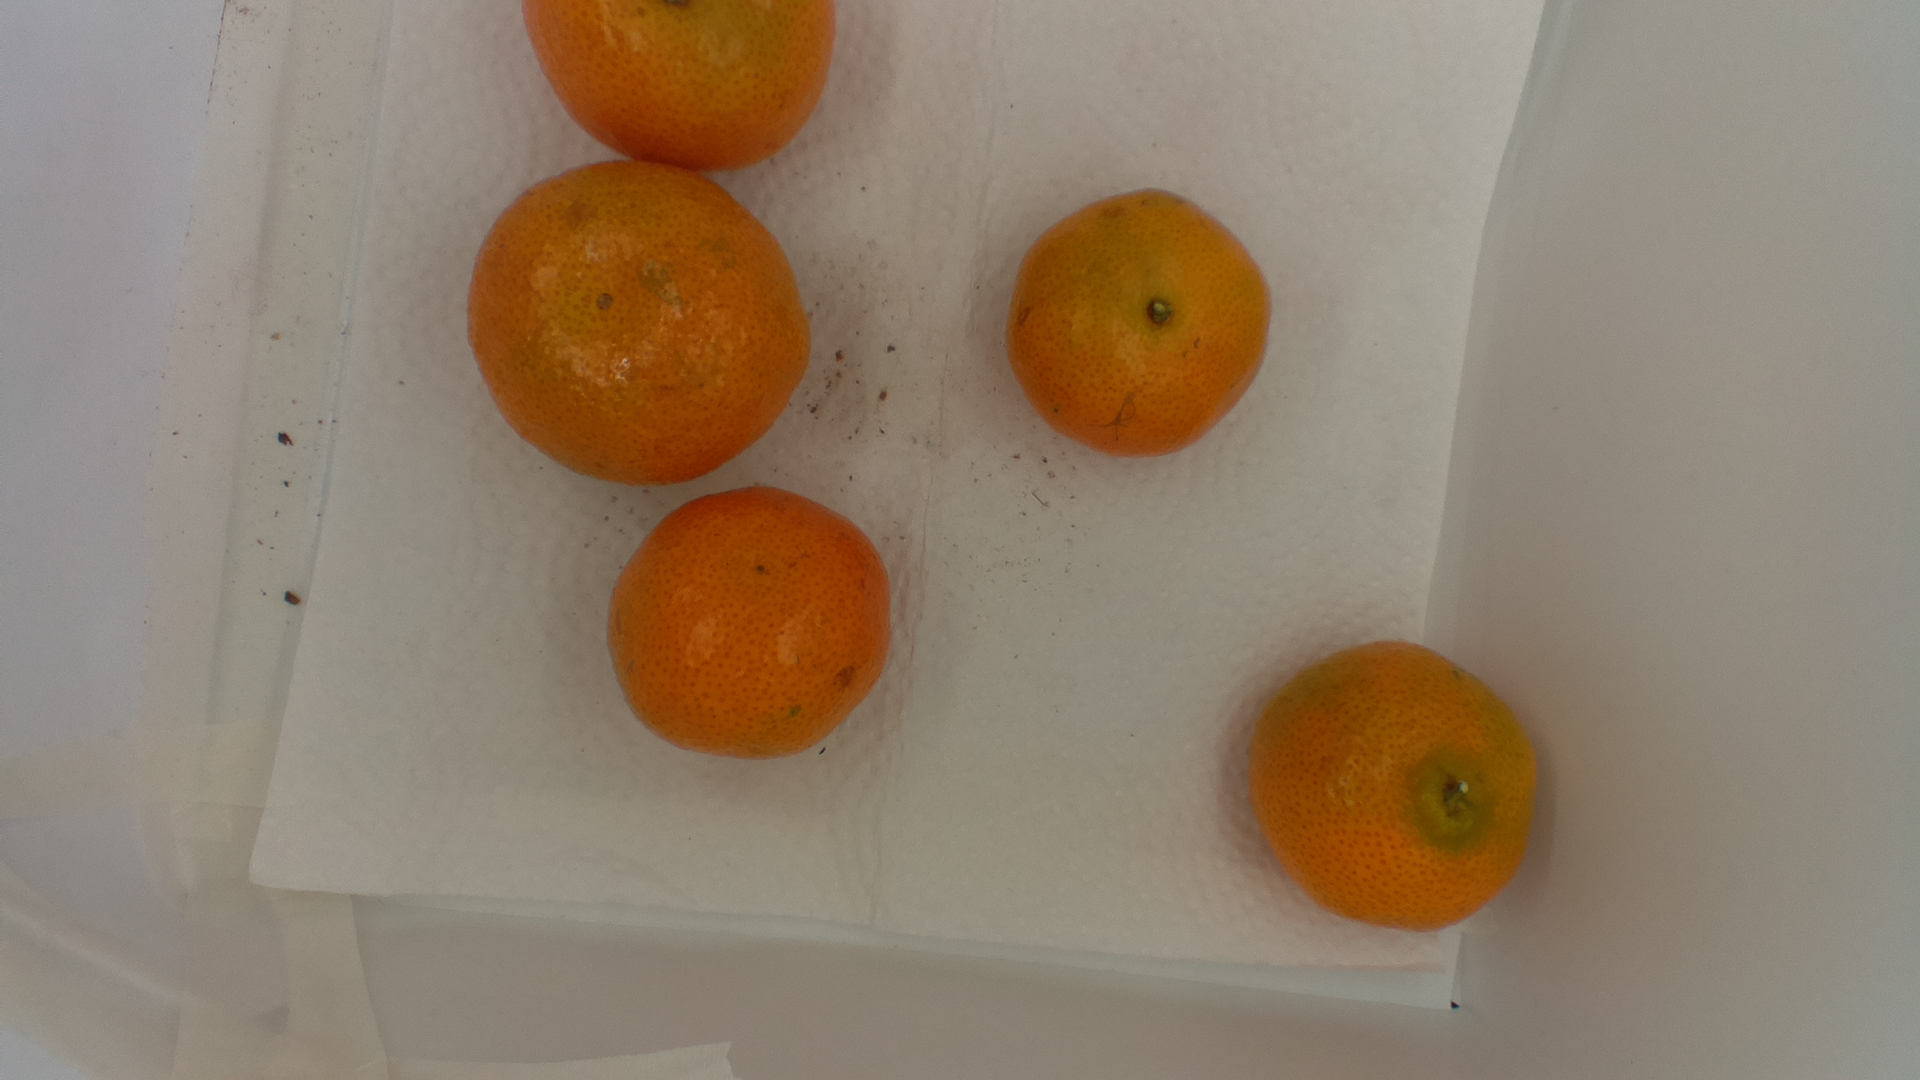fruit: (473, 1, 901, 761), (1237, 637, 1553, 942), (1004, 179, 1278, 465)
